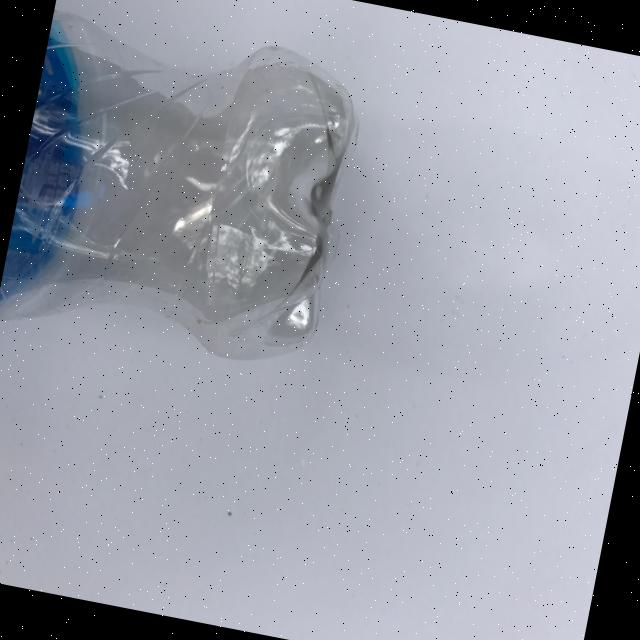plastic: (0, 1, 372, 378)
